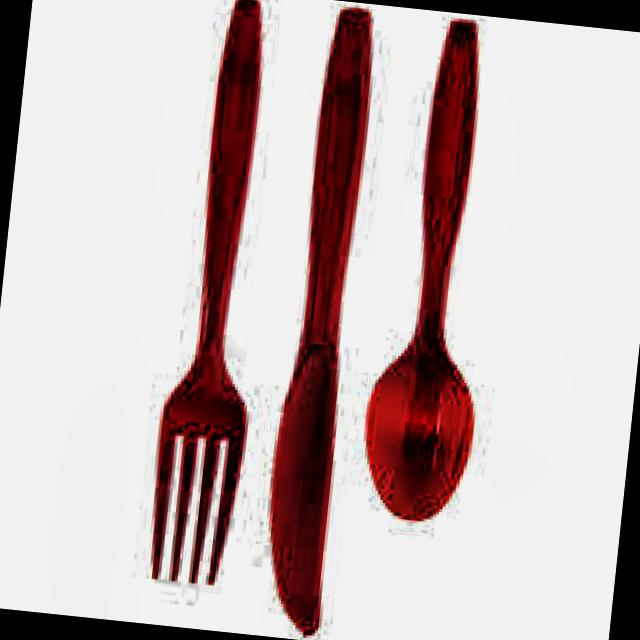plastic utensil: (0, 0, 640, 640), (271, 10, 371, 635), (153, 0, 260, 584), (369, 23, 476, 518)
